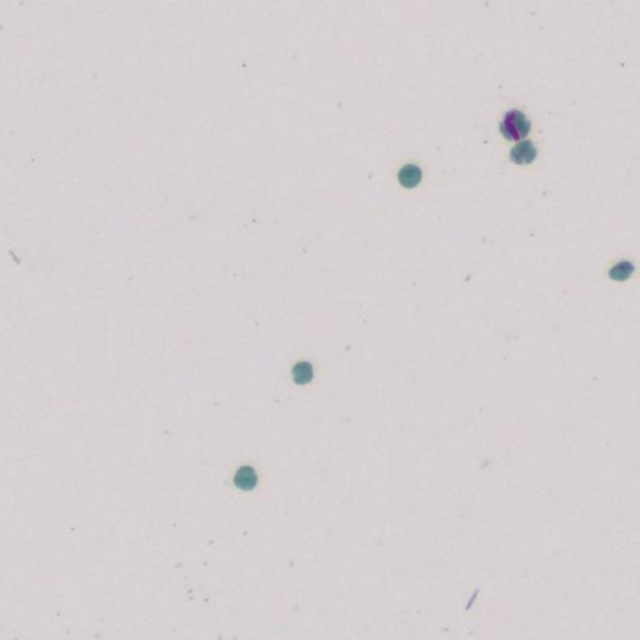non_viable: (500, 110, 529, 141), (510, 139, 536, 165), (397, 163, 421, 188), (234, 464, 257, 490), (608, 260, 634, 280), (293, 361, 311, 383)
